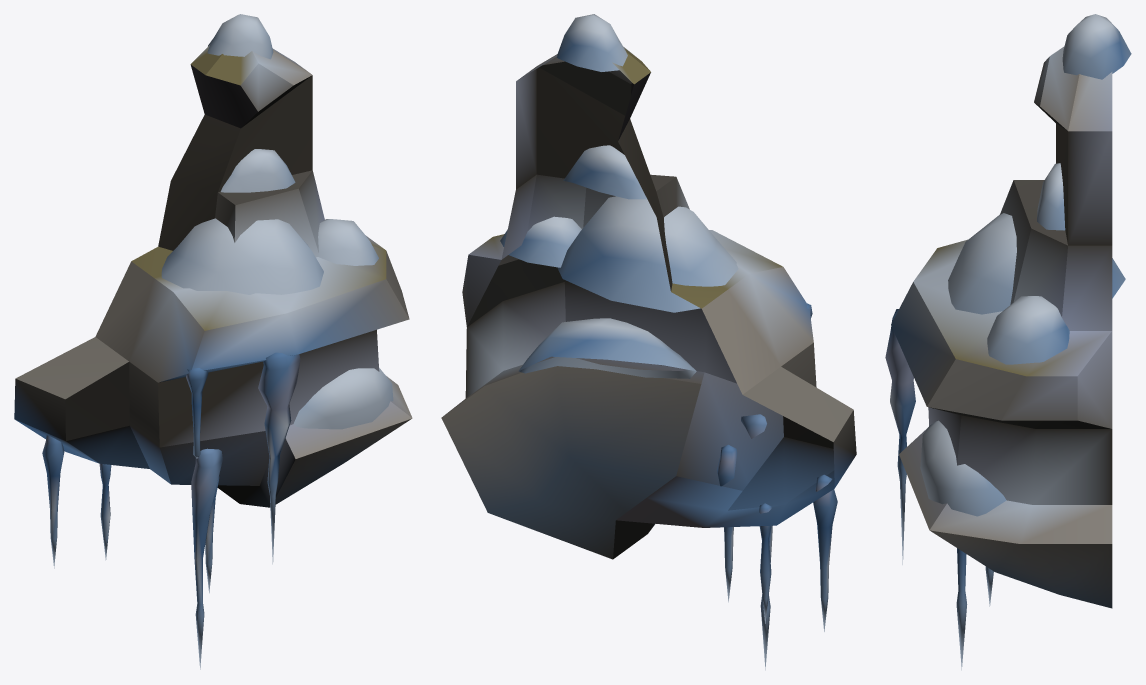
File: Cliff_05.fbx
3 renders of one model, left to right at view 1: azimuth 30°, elevation 25°; view 2: azimuth 150°, elevation 25°; view 3: azimuth 270°, elevation 25°, orthographic. The views are drawn at different scales.
Parts seen in each view (by area): view 1: Cliff_05; view 2: Cliff_05; view 3: Cliff_05.
Boxes of the visible parts, bbox=[...] form: Cliff_05: bbox=[14, 14, 412, 669]; Cliff_05: bbox=[441, 14, 856, 670]; Cliff_05: bbox=[885, 14, 1131, 670].
Bounding box in the file's own units: 3573 × 5858 × 1833.
